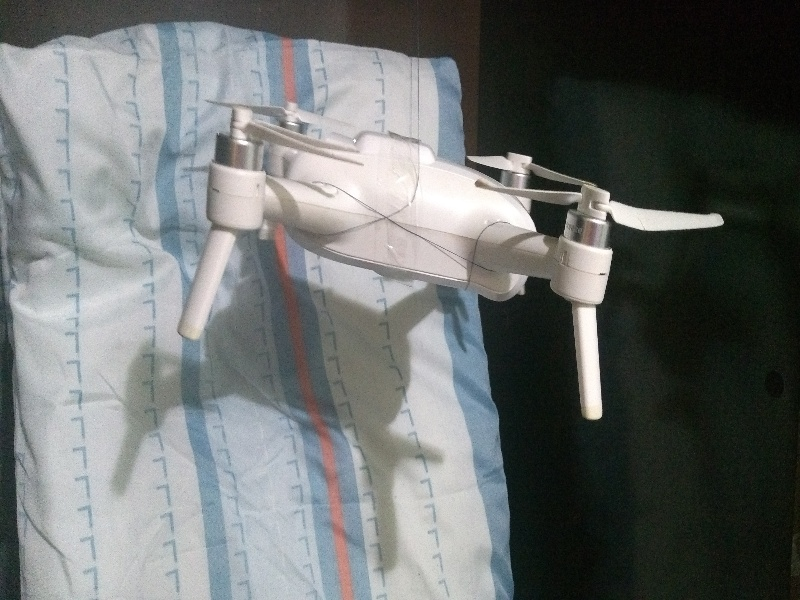drone: (164, 86, 733, 427)
